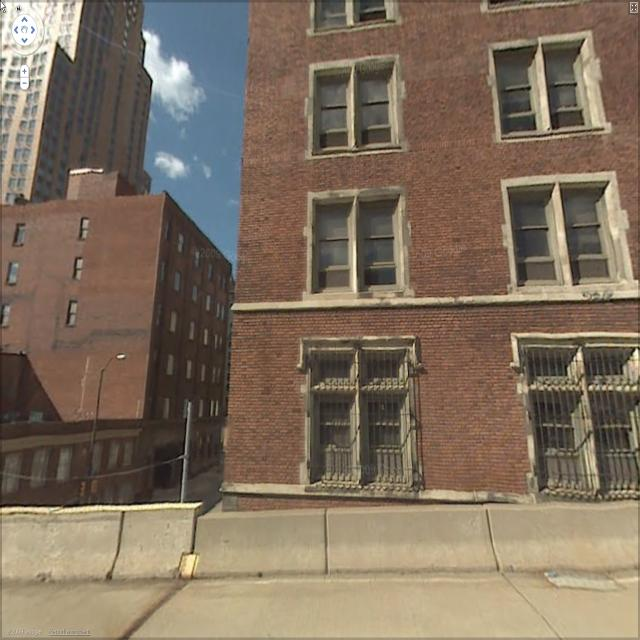b_1: (216, 2, 640, 496), (1, 164, 238, 508), (0, 1, 156, 190)
